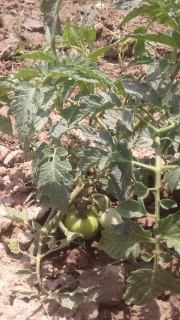tomato: (59, 205, 99, 242)
tomato plant: (13, 7, 179, 181), (59, 69, 177, 291)
